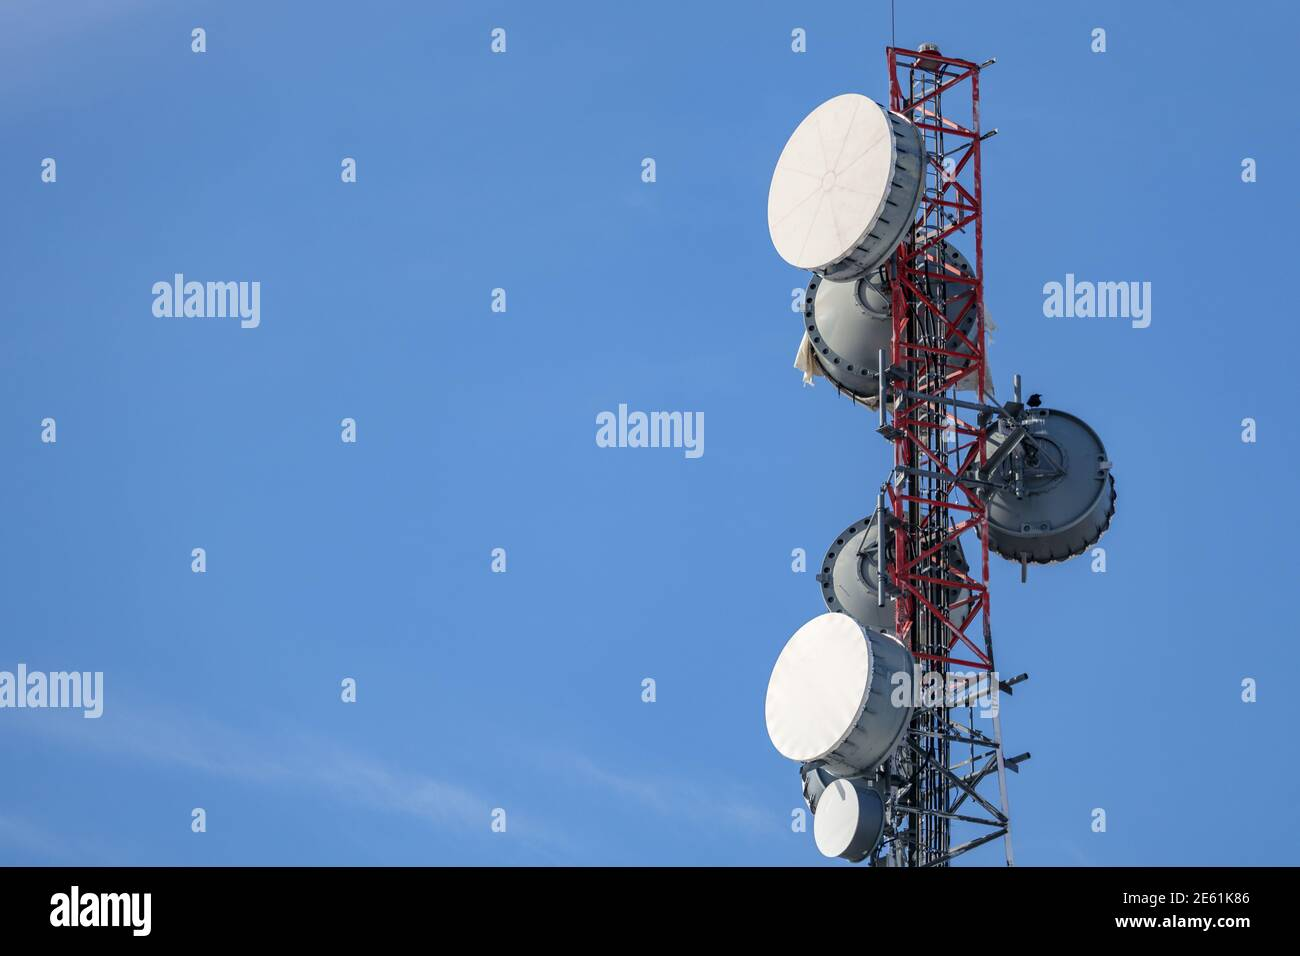ba: (735, 569, 928, 787), (954, 402, 1163, 590), (757, 61, 922, 277), (814, 484, 982, 664), (785, 251, 1000, 388), (800, 737, 889, 850)
